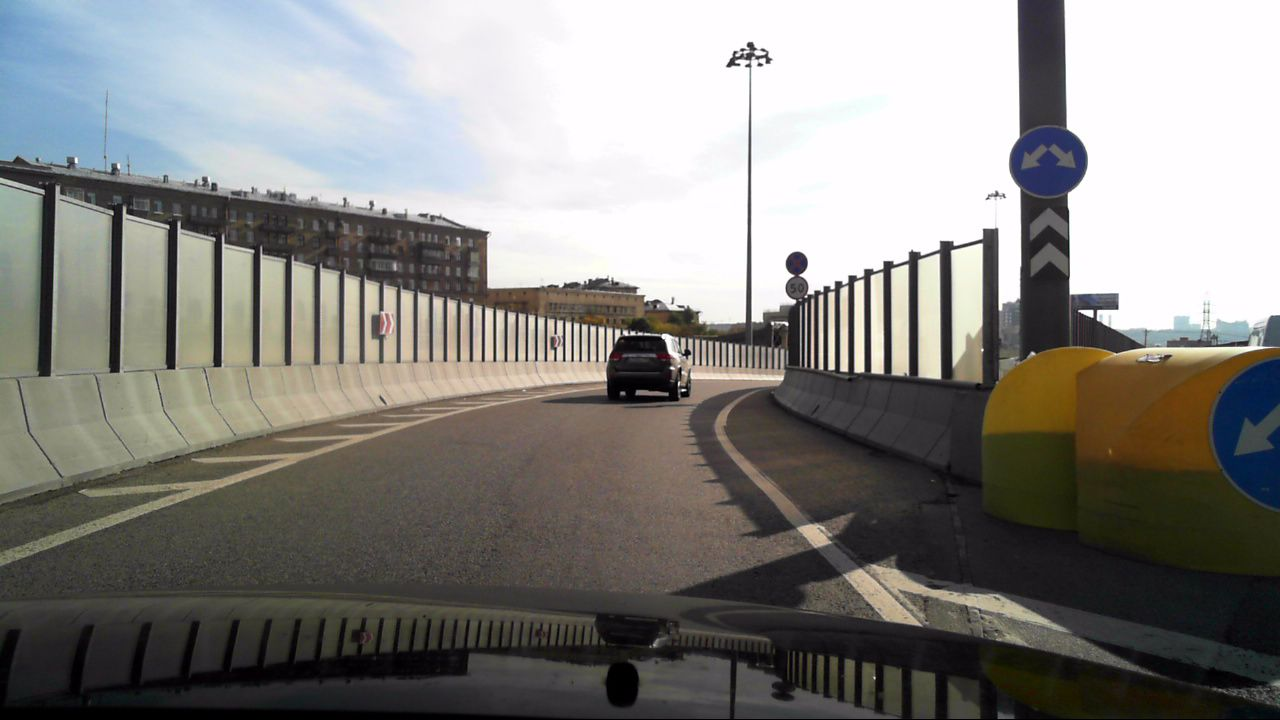No Parking: (784, 248, 809, 275)
